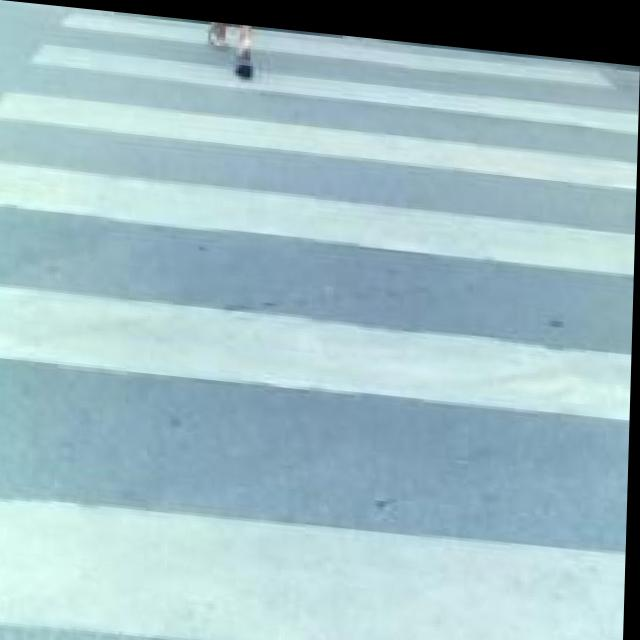zebra: (10, 59, 639, 640)
